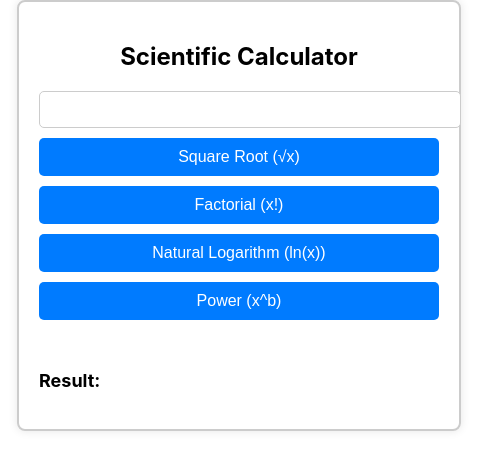
calculates power correctly
Type "2" into the number field at (250, 109), box [39,91,461,128]
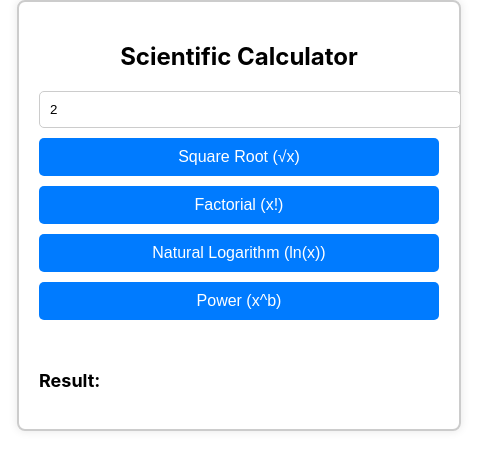
Click the button "Power (x^b)" at (239, 301), box [39,282,439,320]
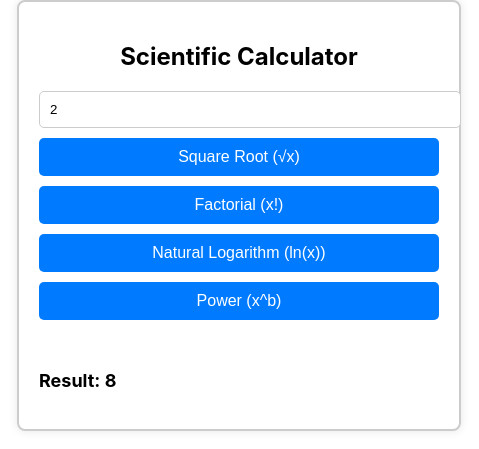
Check: the heading "Result: 8" is shown, box [39,370,116,391]
